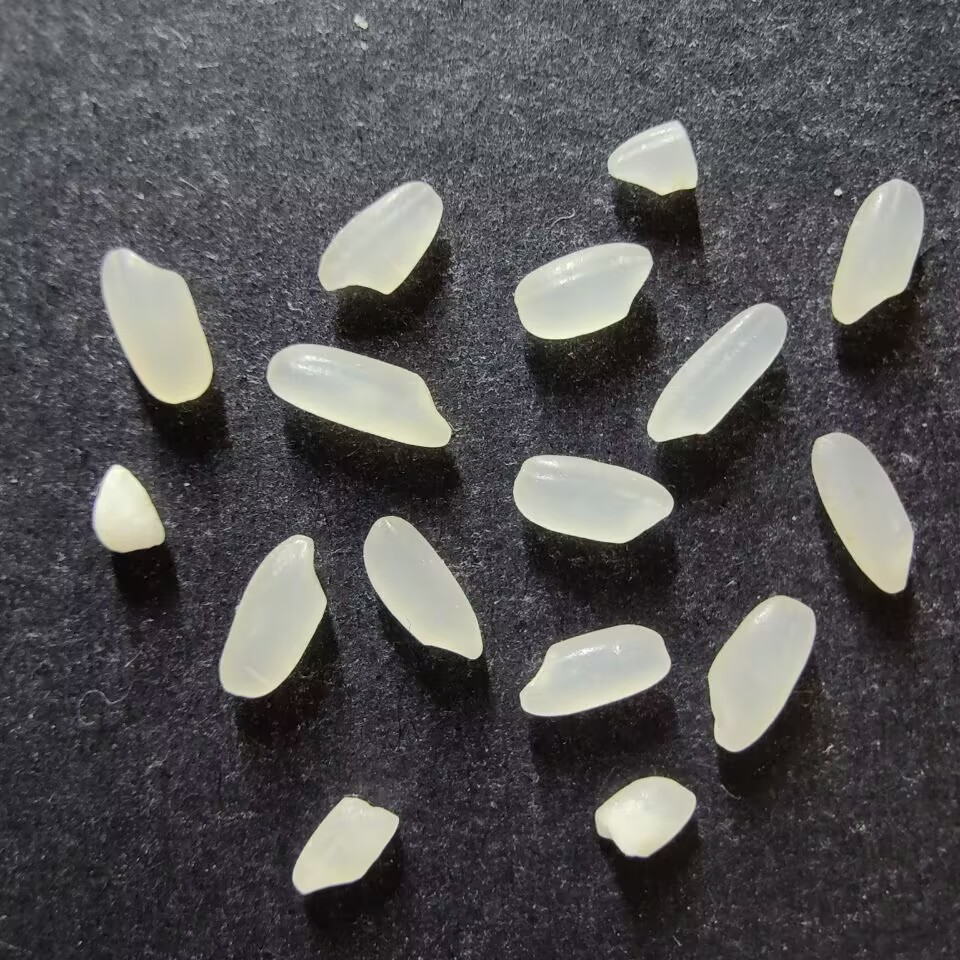broken: (290, 796, 400, 895), (595, 775, 696, 859), (606, 119, 698, 196), (92, 463, 165, 553)
rice: (645, 302, 787, 442), (266, 344, 451, 447), (218, 532, 327, 698), (99, 248, 213, 404), (362, 514, 483, 660), (707, 595, 816, 752), (810, 431, 915, 593), (511, 453, 673, 544), (317, 180, 443, 295), (519, 623, 671, 717), (513, 242, 653, 340), (830, 178, 923, 325)
